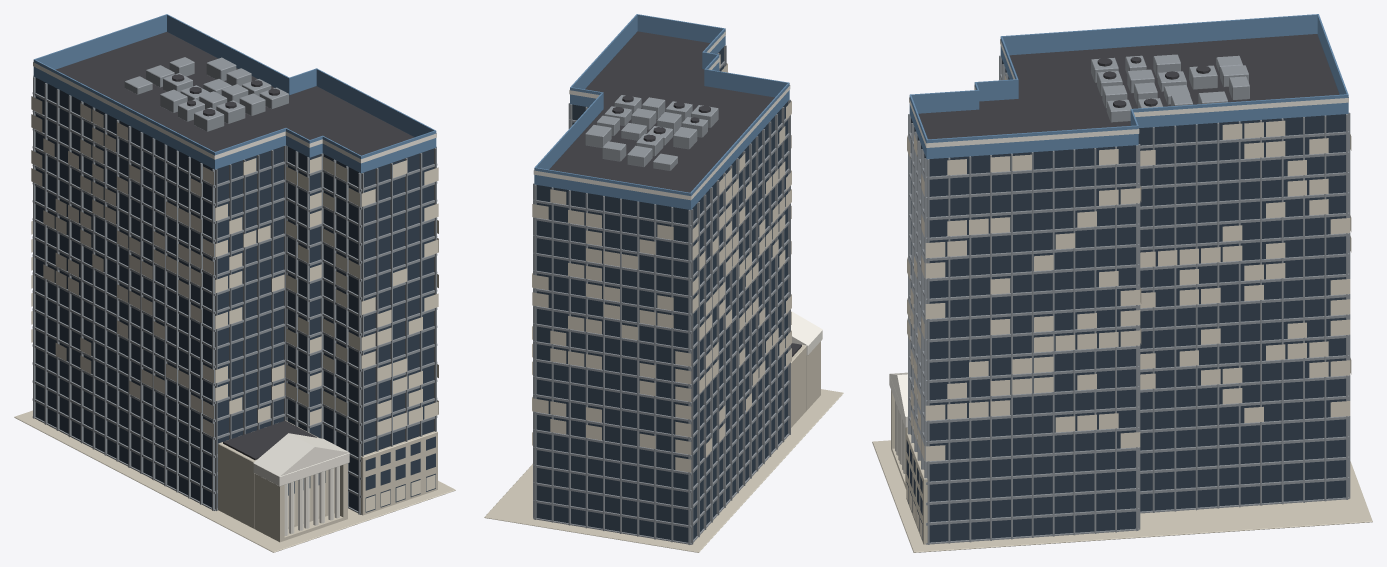
The model's file is 350-bush-street.glb.
3 views of the same model, side by side, from view 1: azimuth 30°, elevation 25°; view 2: azimuth 150°, elevation 25°; view 3: azimuth 270°, elevation 25° (orthographic). The views are drawn at different scales.
Visible parts, largest first — view 1: 350-bush-street_body, 350-bush-street_night_glow; view 2: 350-bush-street_body, 350-bush-street_night_glow; view 3: 350-bush-street_body, 350-bush-street_night_glow.
Part boxes in pixels (x1,y1,x2,y2): 350-bush-street_body: [14, 14, 455, 552]; 350-bush-street_night_glow: [31, 62, 438, 526]; 350-bush-street_body: [484, 14, 843, 552]; 350-bush-street_night_glow: [532, 31, 791, 472]; 350-bush-street_body: [872, 14, 1372, 552]; 350-bush-street_night_glow: [906, 39, 1351, 538].
Bounding box in the file's own units: 63.59 × 85 × 95.16.
